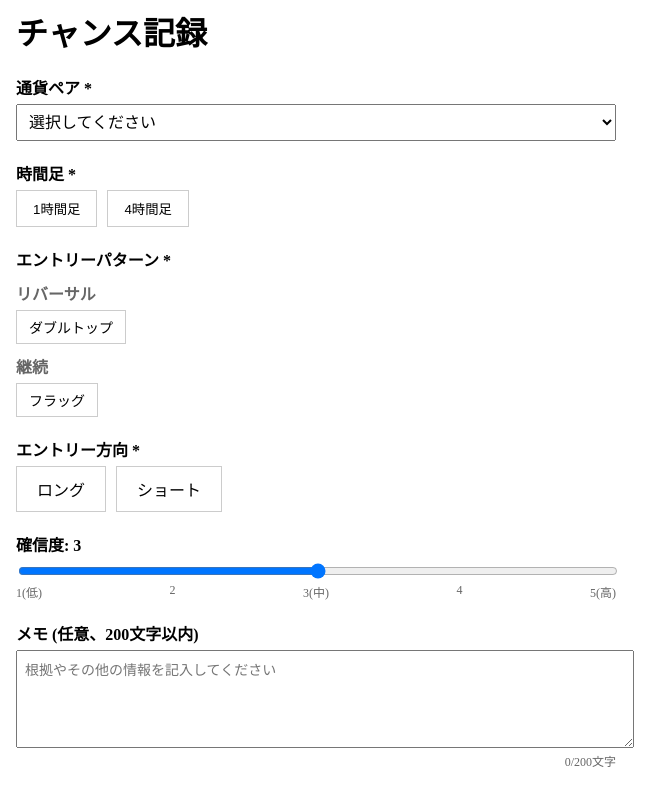
it: ChanceRecorder › メモ入力ができる
Type "テストメモ" into the text box with placeholder "根拠やその他の情報を記入してください". click: (325, 699)
box: [16,650,634,748]
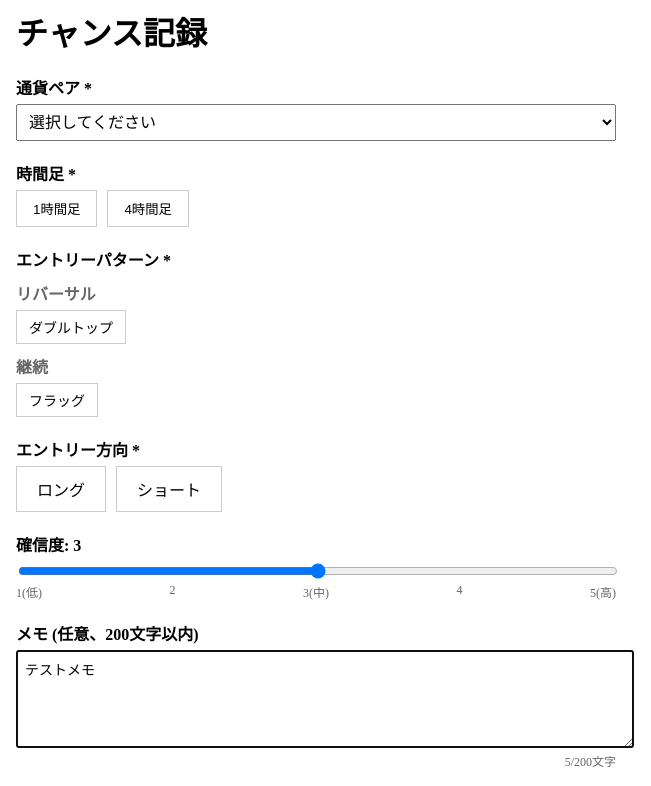
Expected: the text "5/200文字" is shown, [565,755,616,769]
